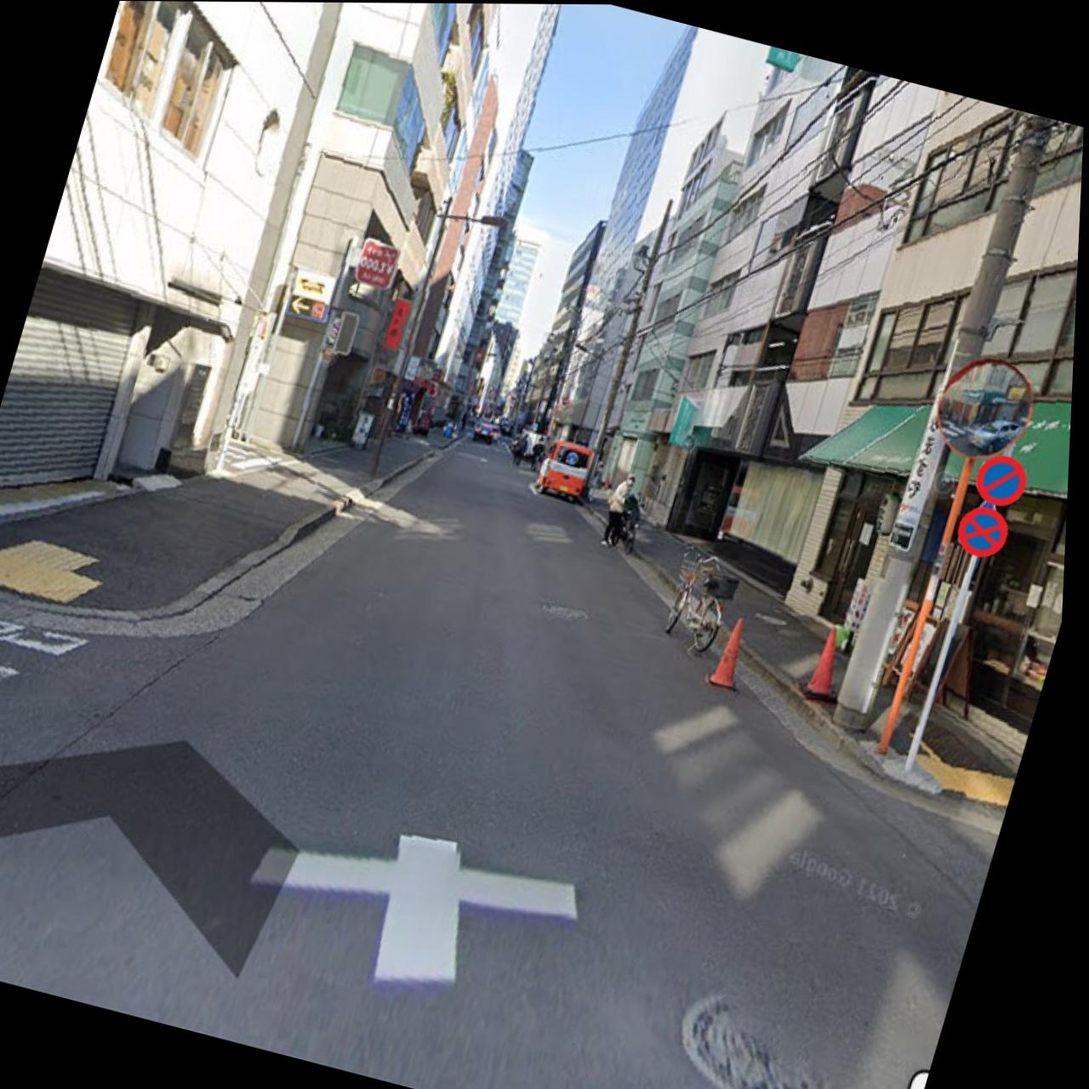stop_sign: (946, 503, 1014, 569)
